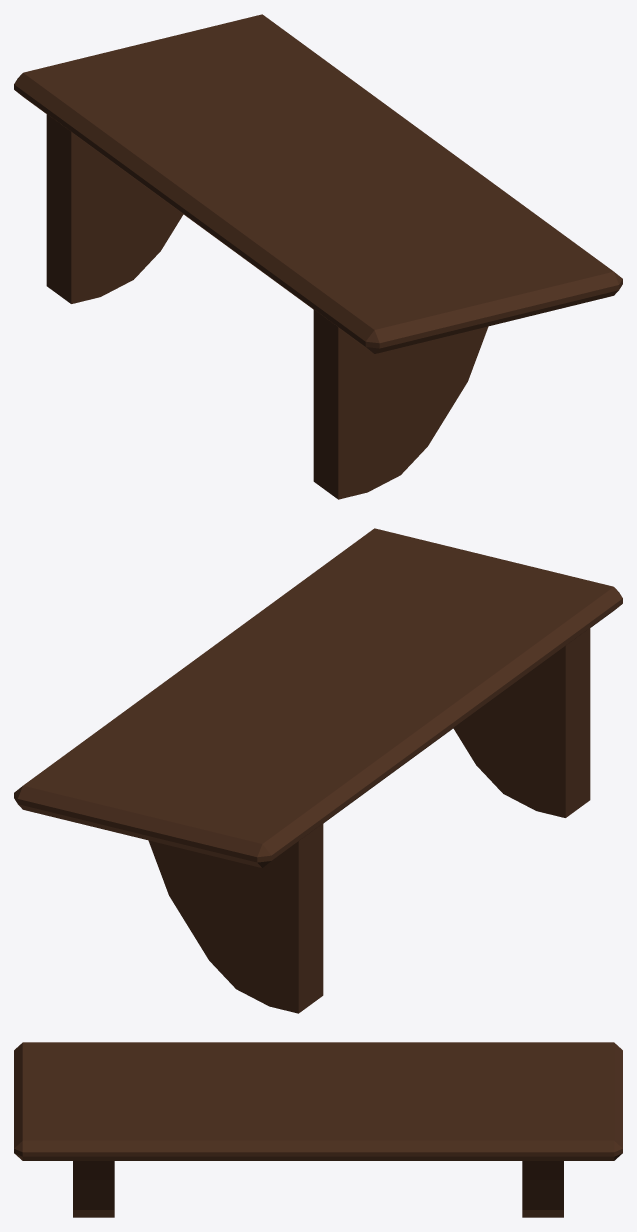
File: Shelf02.fbx
3 views of the same model, one above another, from view 1: azimuth 30°, elevation 25°; view 2: azimuth 150°, elevation 25°; view 3: azimuth 270°, elevation 25° (orthographic). The views are drawn at different scales.
Visible parts, largest first — view 1: Cube.001; view 2: Cube.001; view 3: Cube.001.
Part boxes in pixels (bbox=[...]): Cube.001: bbox=[14, 14, 622, 499]; Cube.001: bbox=[14, 528, 622, 1013]; Cube.001: bbox=[14, 1042, 622, 1217].
Size of the model in its own units: 77.94 by 54.95 by 190.
